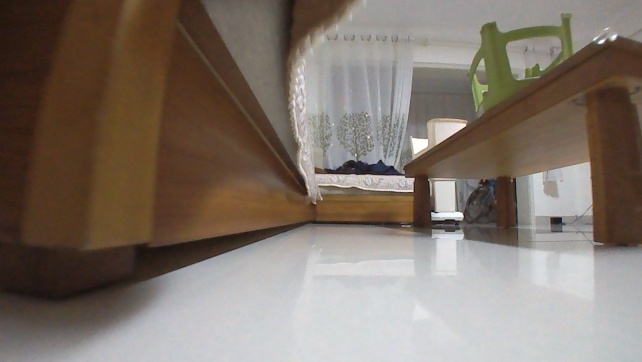sofa: (0, 0, 423, 305)
